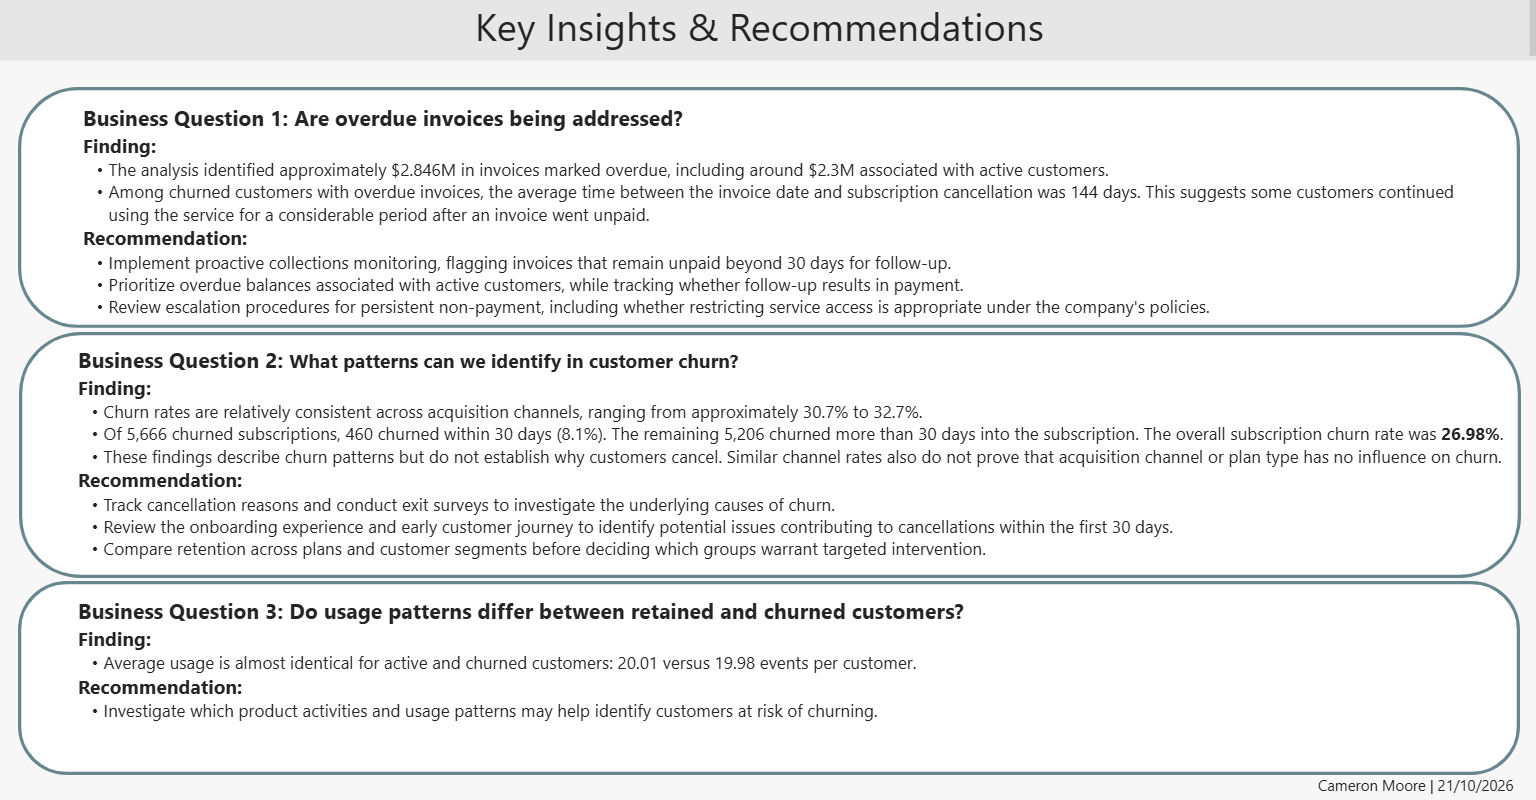

The dashboard page shown, as its layout file describes it:
{"tool":"powerbi","page":{"name":"Insights & Recommendations","canvas":[1920,1080],"ordinal":4},"visuals":[{"type":"textbox","box":[0,0,1920,77.1],"z":0},{"type":"shape","box":[22.3,110.4,1877.5,301.2],"z":1000},{"type":"textbox","box":[1088.8,141.2,740,108.8],"z":2000},{"type":"textbox","box":[104.3,130,1757.1,352.9],"z":3000},{"type":"shape","box":[23.6,416.6,1877.5,307.5],"z":4000},{"type":"textbox","box":[97.1,432.9,1795.7,361.4],"z":5000},{"type":"shape","box":[22.5,727.5,1877.5,242.5],"z":6000},{"type":"textbox","box":[97.5,746.2,1775,275],"z":7000},{"type":"textbox","box":[1647.5,970,272.5,66.2],"z":7001}]}

Visuals, with their boxes on the page's 1920x1080 design canvas (x1, y1, x2, y2). These are canvas units, not pixel positions in the 1536x800 screenshot, which may show the page scaled, cropped or inside an application window:
textbox: (x1=0, y1=0, x2=1920, y2=77)
shape: (x1=22, y1=110, x2=1900, y2=412)
textbox: (x1=1089, y1=141, x2=1829, y2=250)
textbox: (x1=104, y1=130, x2=1861, y2=483)
shape: (x1=24, y1=417, x2=1901, y2=724)
textbox: (x1=97, y1=433, x2=1893, y2=794)
shape: (x1=22, y1=728, x2=1900, y2=970)
textbox: (x1=98, y1=746, x2=1872, y2=1021)
textbox: (x1=1648, y1=970, x2=1920, y2=1036)
